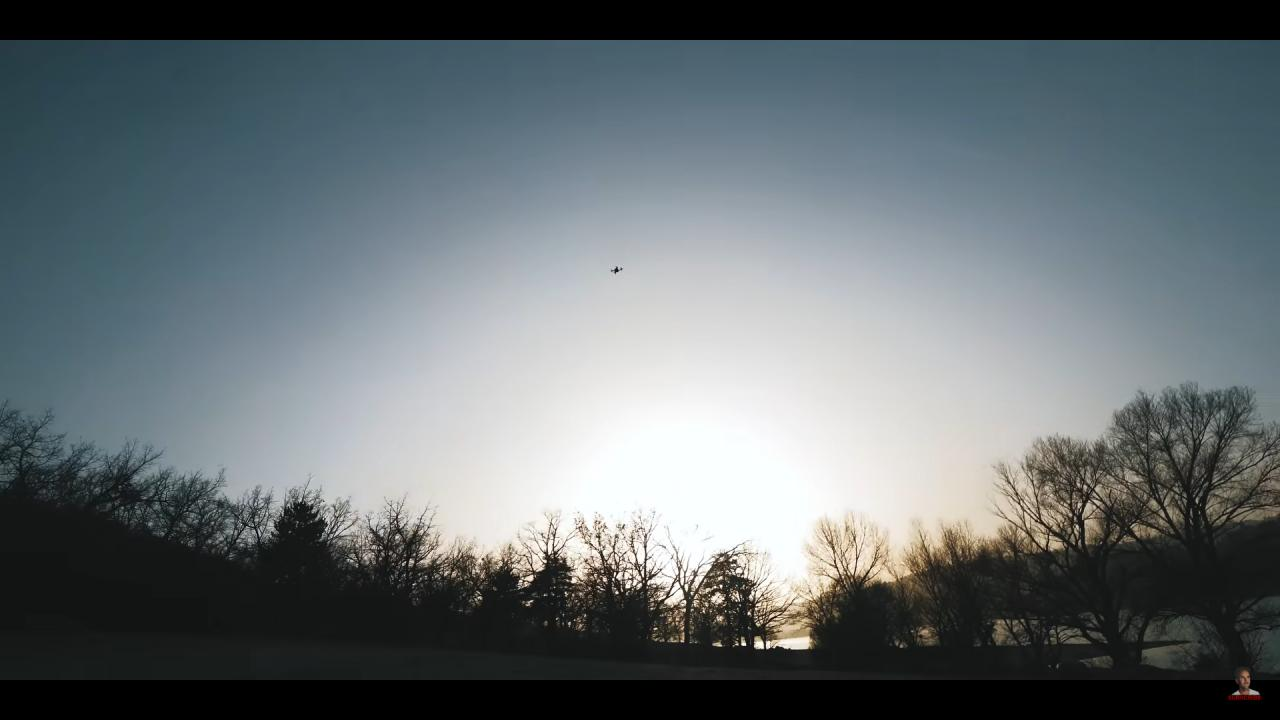Drone: (606, 261, 628, 278)
